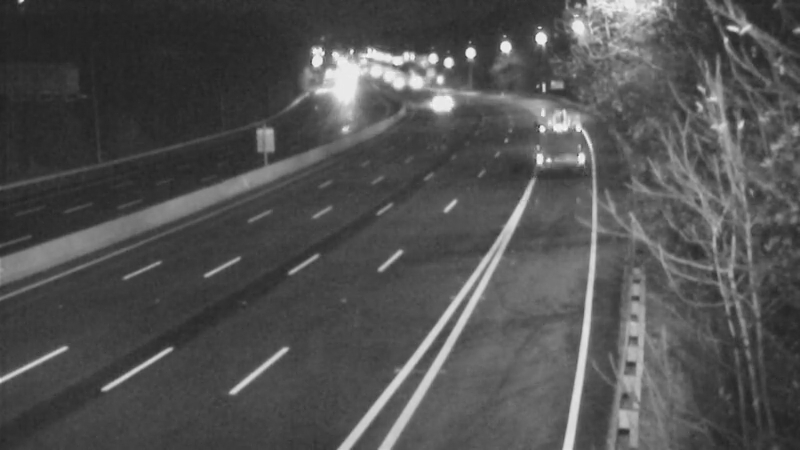vehicle: (368, 59, 418, 109), (391, 56, 441, 106), (414, 78, 464, 128), (530, 112, 580, 162), (320, 71, 370, 121)
